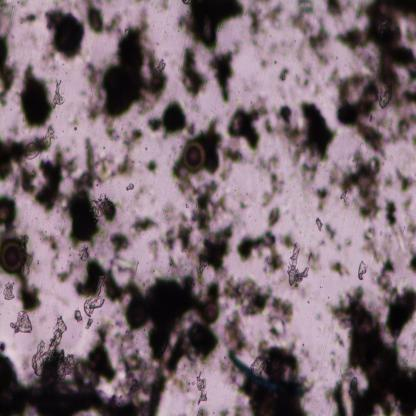Background material: (0, 309, 166, 415), (336, 0, 416, 154), (326, 284, 416, 416), (116, 272, 224, 374), (223, 312, 317, 414), (168, 161, 242, 284), (80, 22, 169, 119), (55, 249, 152, 336), (66, 135, 127, 253), (0, 126, 69, 215), (364, 225, 416, 341), (273, 104, 335, 184), (223, 276, 294, 342), (329, 153, 383, 223), (178, 1, 244, 48), (287, 0, 331, 69), (225, 99, 276, 155), (0, 273, 45, 334), (280, 228, 321, 289), (18, 60, 53, 128), (44, 7, 86, 61), (237, 228, 284, 275), (178, 46, 208, 102), (144, 99, 187, 135), (244, 3, 284, 41), (208, 50, 236, 104), (199, 119, 224, 177), (0, 32, 19, 104), (102, 119, 143, 149), (86, 0, 122, 33), (100, 150, 139, 180), (262, 158, 284, 211), (247, 40, 280, 73), (124, 212, 160, 240), (0, 195, 23, 238), (273, 64, 315, 87), (392, 161, 416, 194), (401, 224, 416, 276), (310, 184, 332, 214), (314, 216, 336, 244), (108, 229, 130, 256), (193, 374, 209, 410), (321, 236, 355, 251), (325, 0, 345, 23), (0, 1, 14, 32), (384, 197, 396, 231), (52, 78, 65, 109), (329, 260, 351, 278), (267, 205, 281, 231), (223, 144, 239, 166), (237, 194, 251, 212), (147, 159, 158, 180), (21, 13, 37, 26), (358, 260, 367, 282)
Diatom: (0, 238, 26, 274), (181, 141, 206, 173), (204, 304, 218, 322)
